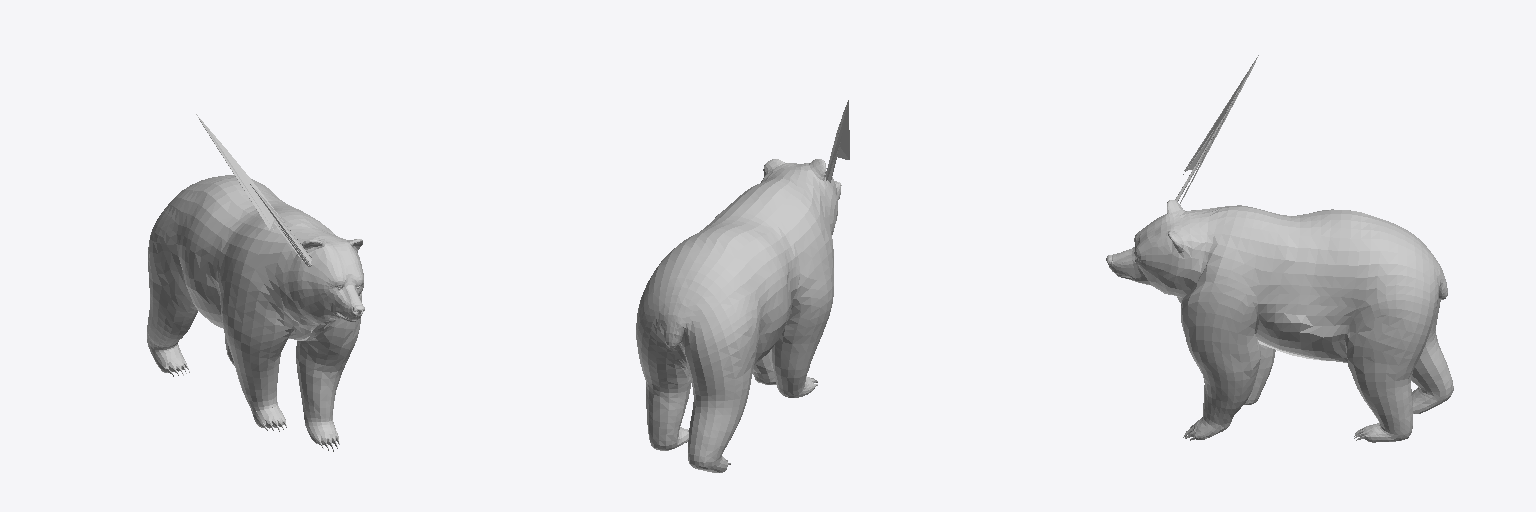
File: Bear0024.obj
The picture shows the model from 3 angles: view 1: azimuth 30°, elevation 25°; view 2: azimuth 150°, elevation 25°; view 3: azimuth 270°, elevation 25°; orthographic projection.
Visible parts, largest first — view 1: Object_237; view 2: Object_237; view 3: Object_237.
Boxes of the visible parts, x1=… form: Object_237: x1=147, y1=114, x2=364, y2=451; Object_237: x1=636, y1=100, x2=849, y2=472; Object_237: x1=1106, y1=55, x2=1453, y2=442.
Size of the model in its own units: 2.31 by 5.24 by 4.92.